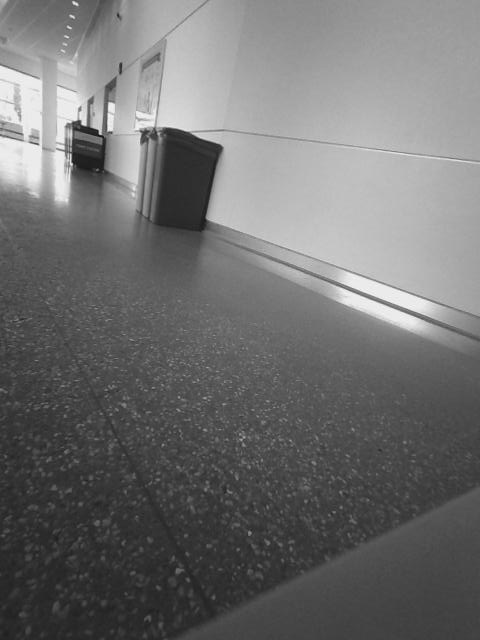ball: (174, 266, 247, 336)
